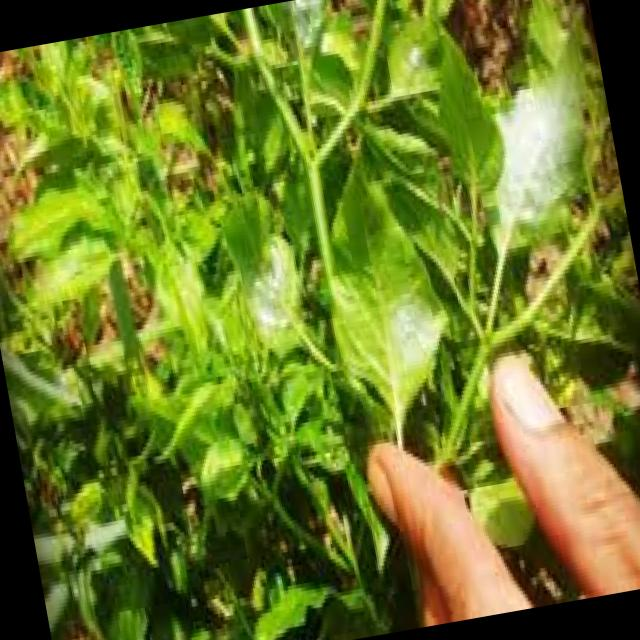Chilli_Leaf_Curl: (0, 0, 640, 640), (300, 138, 468, 456)
